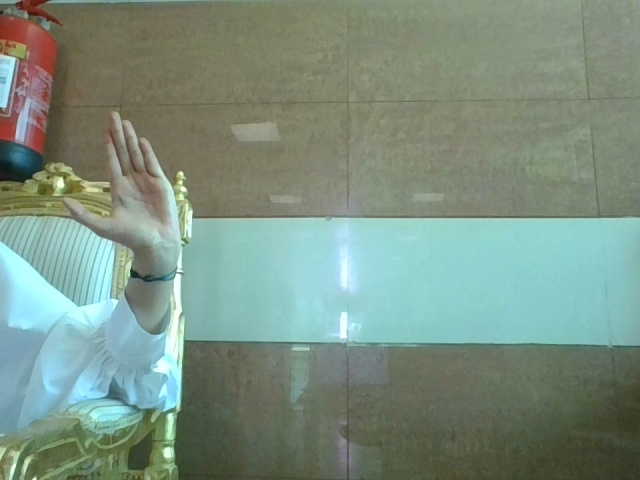Hi: (65, 95, 245, 340)
